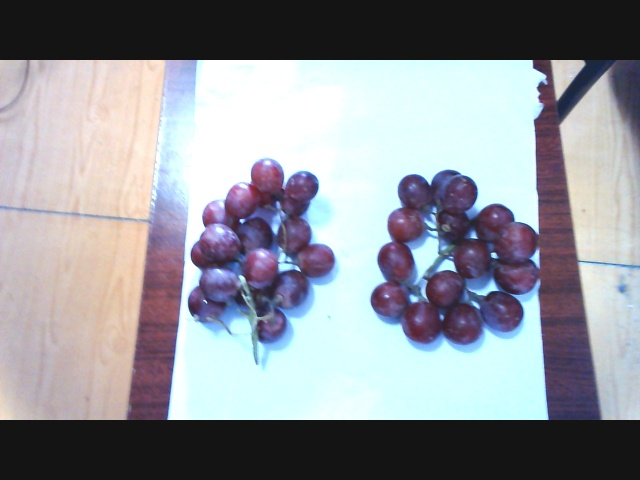grape: (370, 165, 540, 357), (190, 152, 331, 353)
